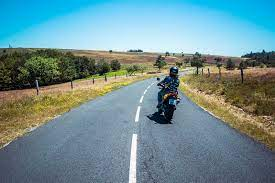moto: (156, 85, 179, 124)
person: (163, 67, 183, 94)
